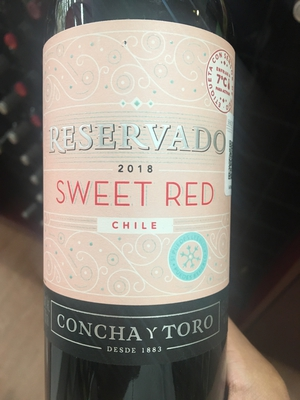reservado sweet red: (40, 6, 236, 400)
